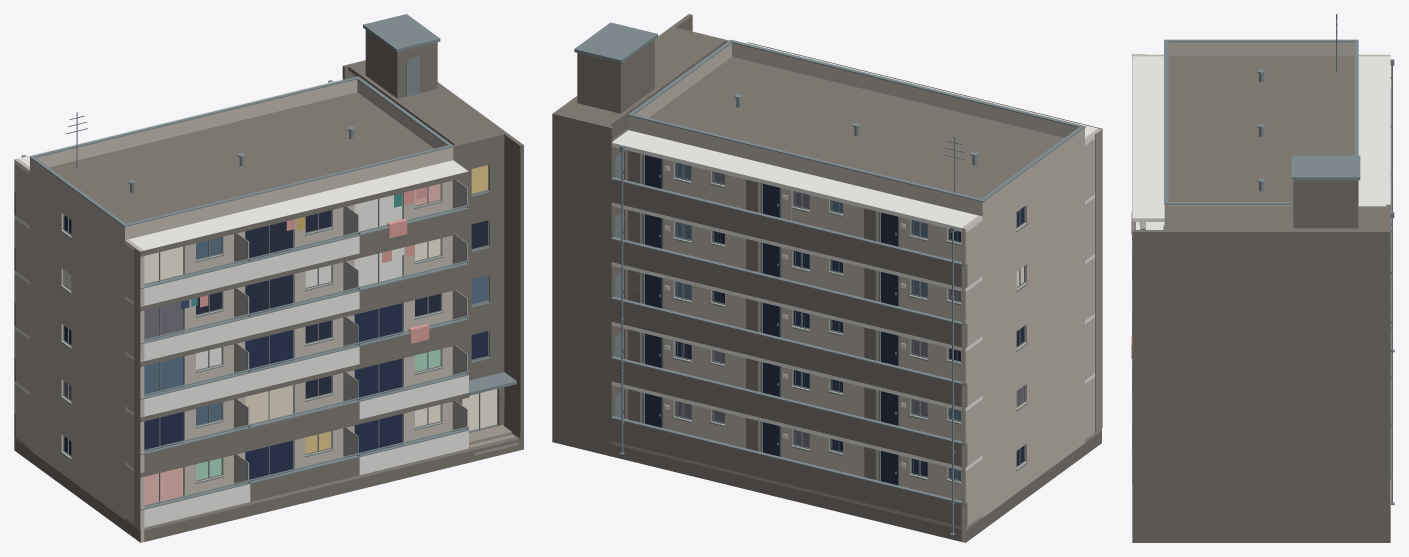
File: tb_mansion_5f_01_c.fbx
The picture shows the model from 3 angles, left to right: view 1: azimuth 30°, elevation 25°; view 2: azimuth 150°, elevation 25°; view 3: azimuth 270°, elevation 25°; orthographic projection. The views are drawn at different scales.
Visible parts, largest first — view 1: tb_mansion_5f_01_c; view 2: tb_mansion_5f_01_c; view 3: tb_mansion_5f_01_c.
Boxes of the visible parts, x1=… form: tb_mansion_5f_01_c: x1=14, y1=14, x2=523, y2=542; tb_mansion_5f_01_c: x1=552, y1=14, x2=1102, y2=542; tb_mansion_5f_01_c: x1=1131, y1=14, x2=1394, y2=542.
Size of what is drawn, in the model's own units: 21.05 by 18.6 by 12.25.
3 materials, 3 textured.
